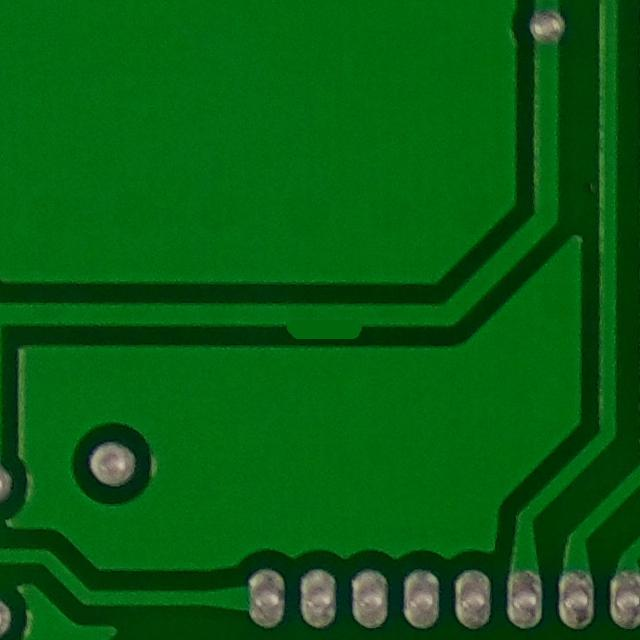spur: (264, 290, 376, 350)
